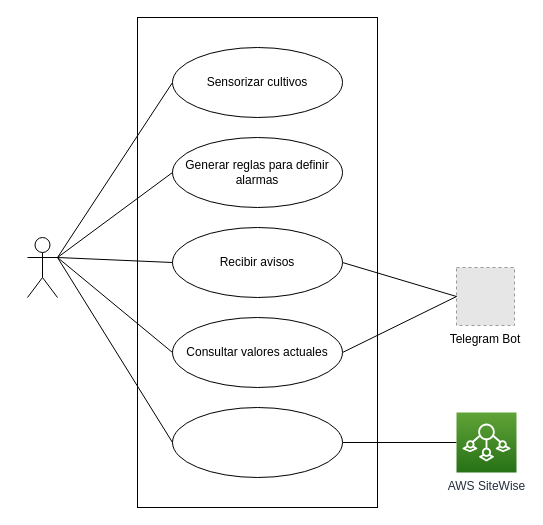
The diagram is 543 pixels wide and 525 high, and some of its shapes have lost their labels. Grey dashed boxes stand in for pictures. The box of each missing label's shape, as (x1, y1, x2, y2) in pixels:
Agricultor: (26, 236, 58, 298)
Consultar valores historicos: (172, 406, 342, 478)
